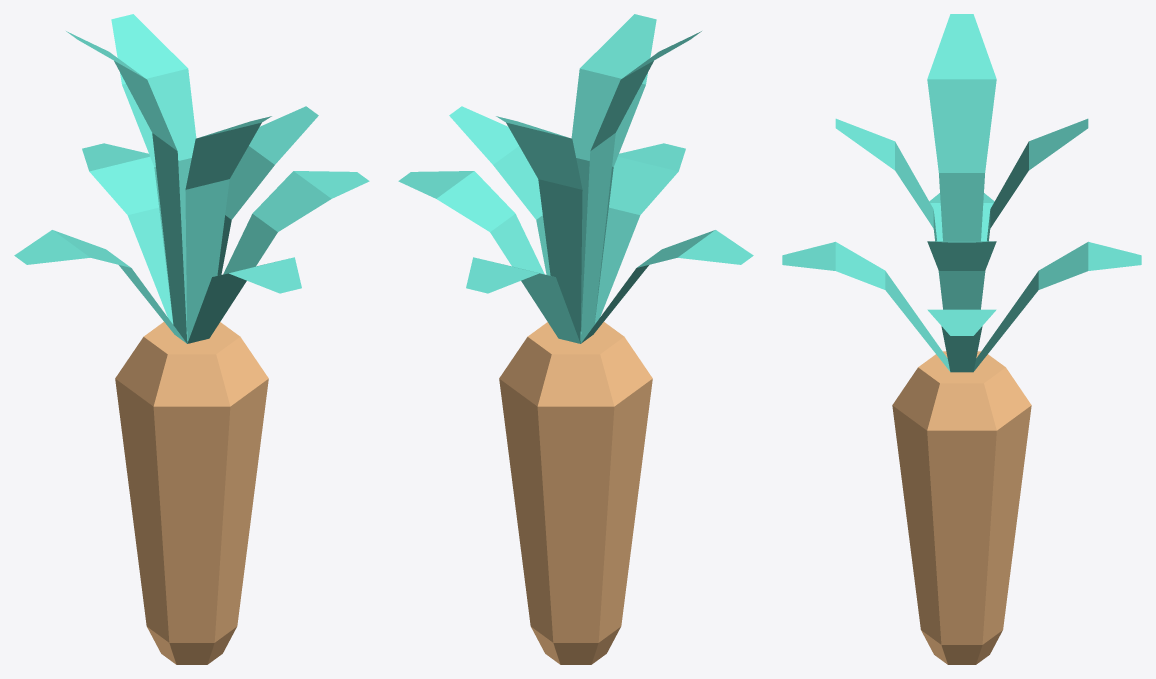
The model's file is kn_crop_carrot.fbx.
3 views of the same model, side by side, from view 1: azimuth 30°, elevation 25°; view 2: azimuth 150°, elevation 25°; view 3: azimuth 270°, elevation 25° (orthographic). The views are drawn at different scales.
Visible parts, largest first — view 1: kn_crop_carrot; view 2: kn_crop_carrot; view 3: kn_crop_carrot.
Boxes of the visible parts, box(x1,y1,x2,y2) form: kn_crop_carrot: box(14, 14, 369, 664); kn_crop_carrot: box(398, 14, 753, 664); kn_crop_carrot: box(782, 14, 1141, 664).
Size of the model in its own units: 0.2216 by 0.4 by 0.2216.
Materials: 1 (1 with a texture image).
